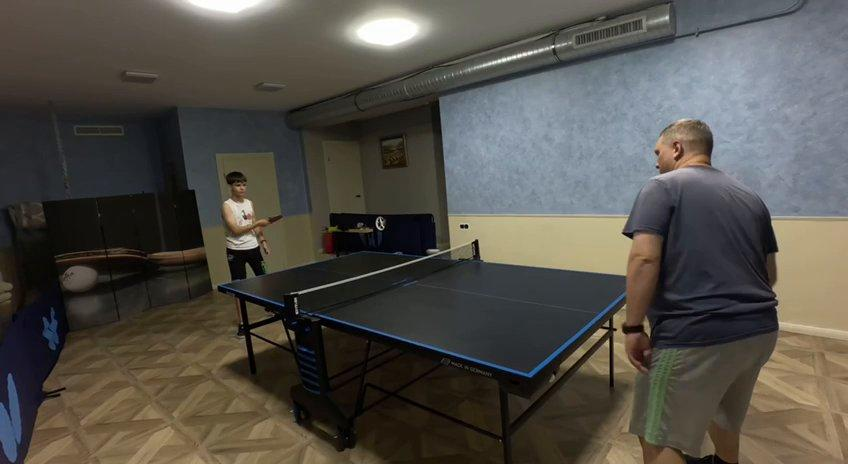Ball: (425, 247, 441, 255)
Net: (280, 241, 481, 325)
Player1: (222, 171, 267, 278)
Player2: (622, 119, 778, 463)
Table: (222, 250, 635, 375)
